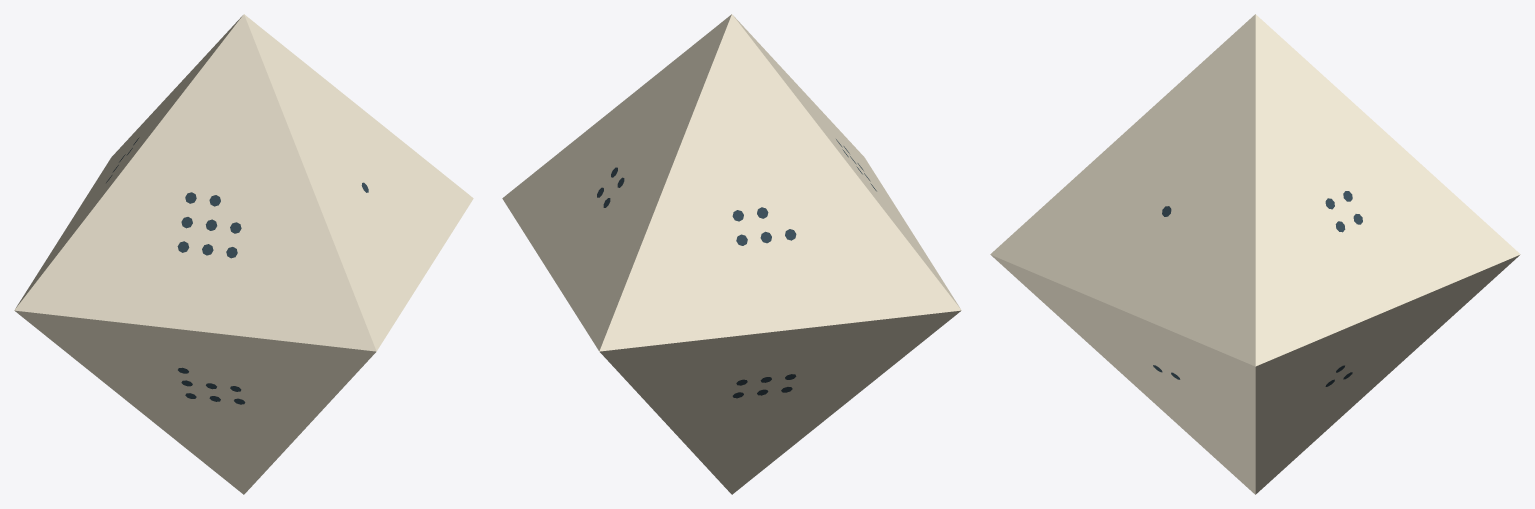
The model's file is tabletop-game-components-d8-octahedron-e7a37f2f__20844.glb.
3 renders of one model, left to right at view 1: azimuth 30°, elevation 25°; view 2: azimuth 150°, elevation 25°; view 3: azimuth 270°, elevation 25°, orthographic.
Visible parts, largest first — view 1: d8-octahedron; view 2: d8-octahedron; view 3: d8-octahedron.
Part boxes in pixels (box(x1,y1,x2,y2)): d8-octahedron: box(14, 14, 473, 494); d8-octahedron: box(502, 14, 961, 494); d8-octahedron: box(990, 14, 1520, 494).
Size of the model in its own units: 0.038 by 0.038 by 0.038.
